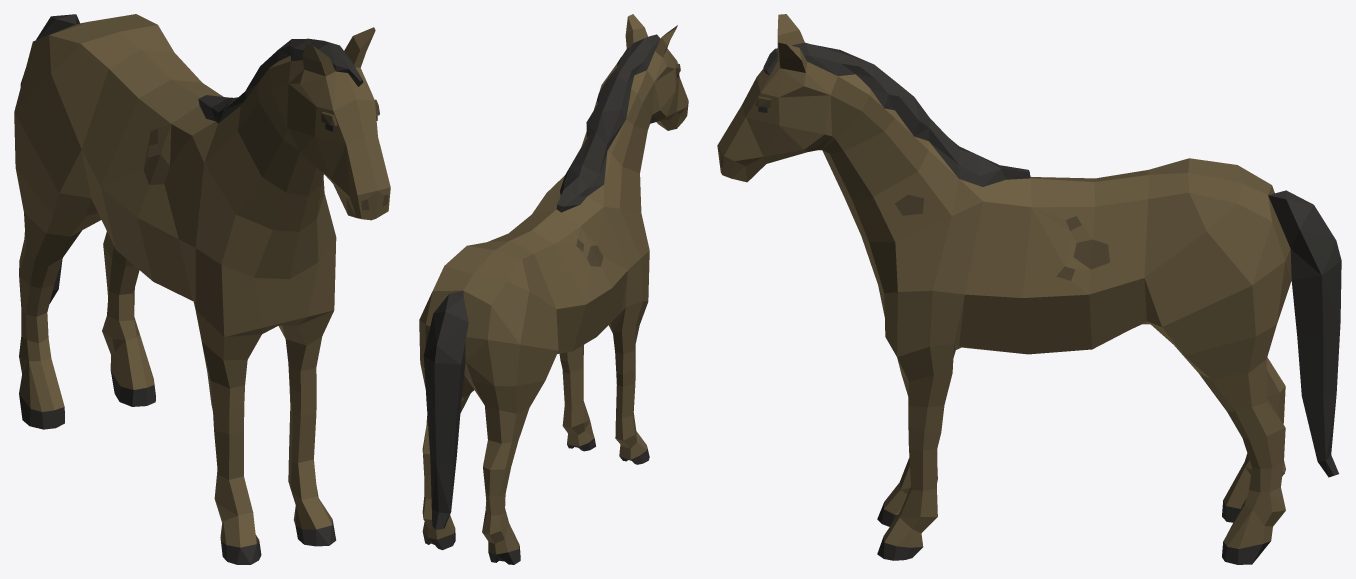
Rendered from Horse .fbx.
The picture shows the model from 3 angles, left to right: view 1: azimuth 30°, elevation 25°; view 2: azimuth 150°, elevation 25°; view 3: azimuth 270°, elevation 25°; orthographic projection. The views are drawn at different scales.
Visible parts, largest first — view 1: Horse; view 2: Horse; view 3: Horse.
Boxes of the visible parts, <box> form: Horse: <box>14,14,390,564</box>; Horse: <box>419,14,688,564</box>; Horse: <box>717,14,1341,564</box>.
Size of the model in its own units: 59.23 by 211 by 235.
